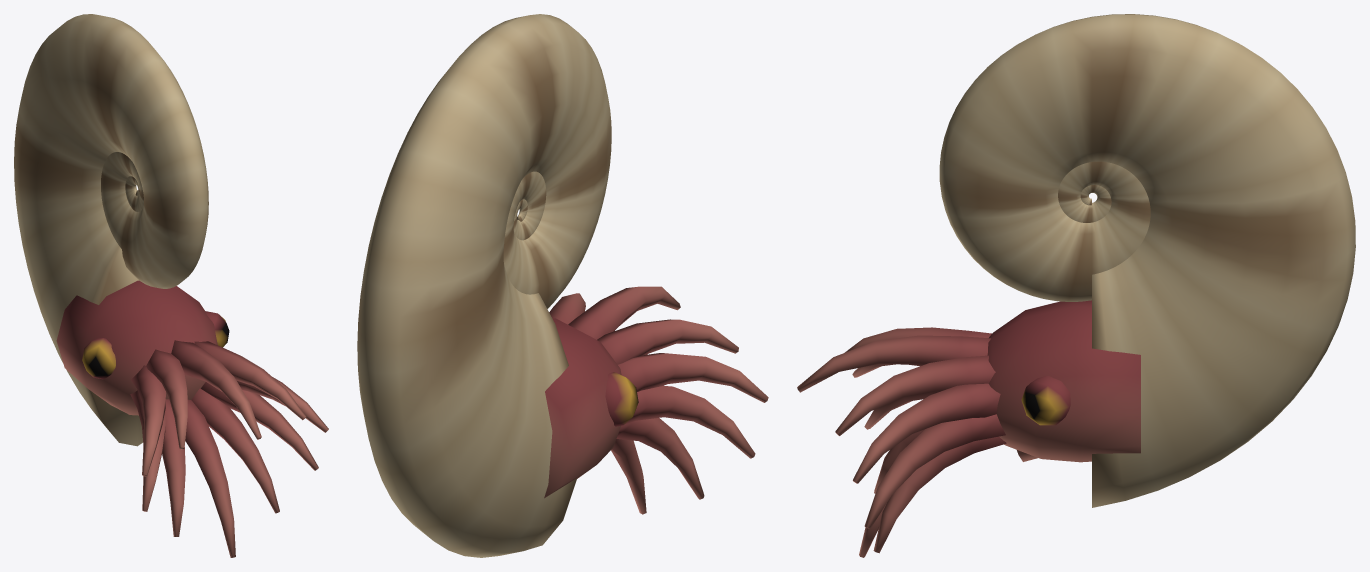
Rendered from Perrinites.fbx.
3 renders of one model, left to right at view 1: azimuth 30°, elevation 25°; view 2: azimuth 150°, elevation 25°; view 3: azimuth 270°, elevation 25°, orthographic. The views are drawn at different scales.
Visible parts, largest first — view 1: Perrinites; view 2: Perrinites; view 3: Perrinites.
Part boxes in pixels (bbox=[...]): Perrinites: bbox=[14, 14, 328, 557]; Perrinites: bbox=[357, 14, 768, 557]; Perrinites: bbox=[797, 14, 1355, 557].
Size of the model in its own units: 0.7558 by 1.75 by 1.63.
